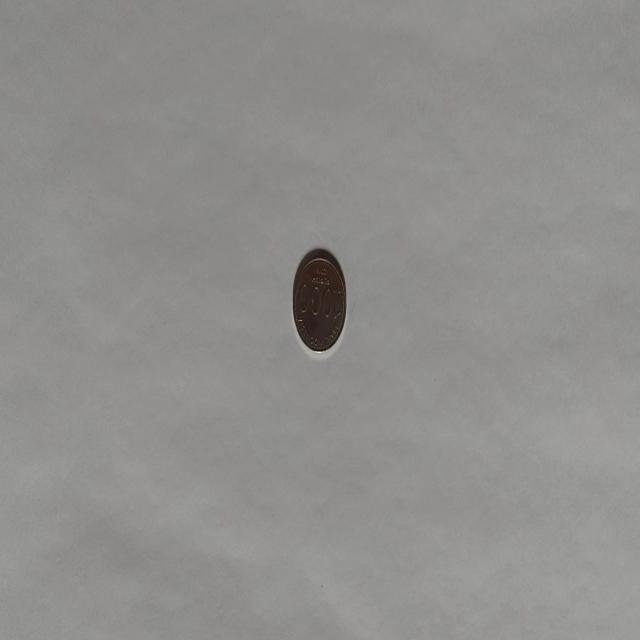seribu rupiah koin: (291, 246, 347, 356)
